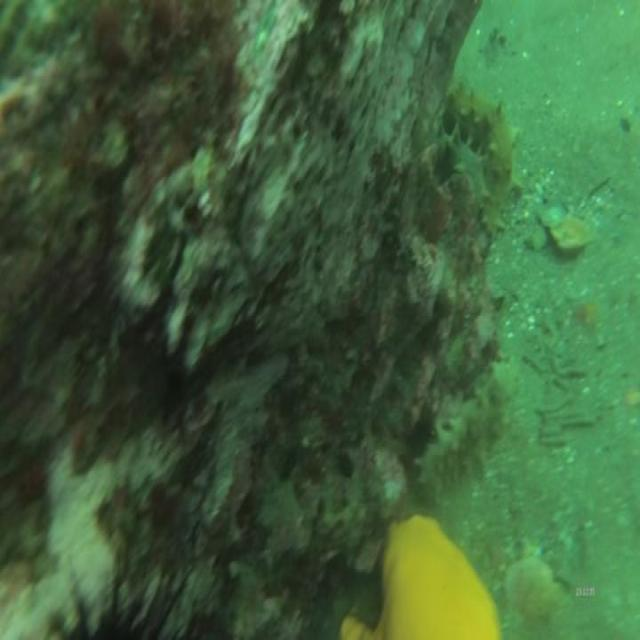holothurian: (420, 343, 522, 510), (444, 72, 524, 246)
